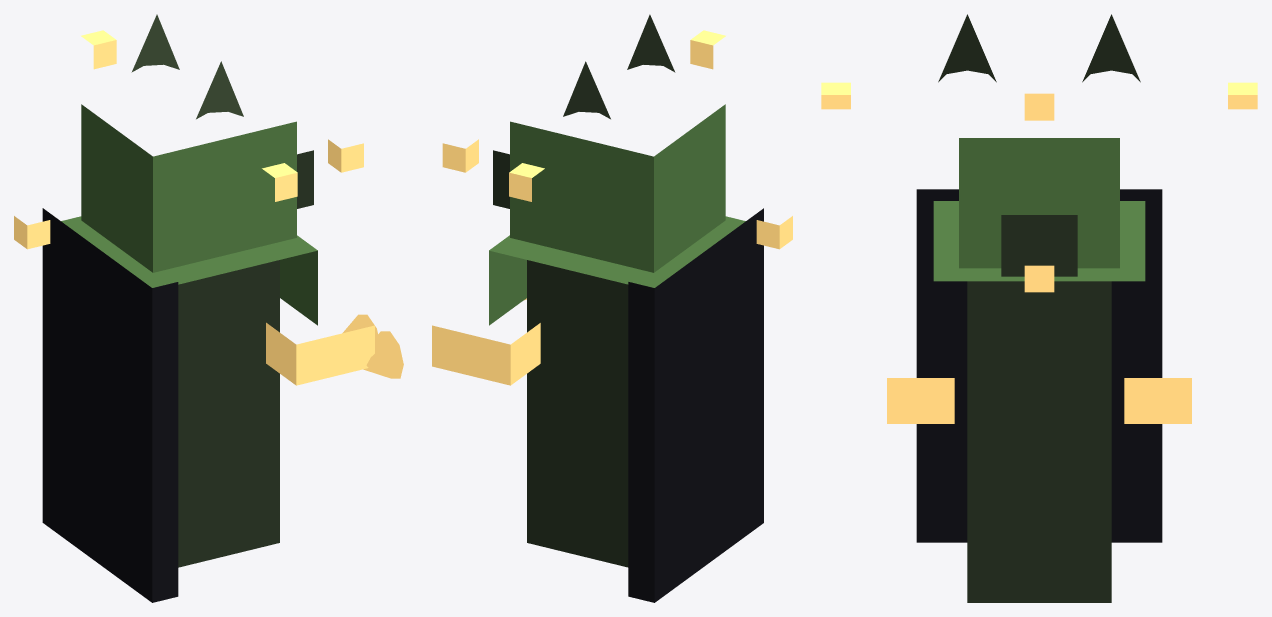
Rendered from lone-druid.glb.
The picture shows the model from 3 angles, left to right: view 1: azimuth 30°, elevation 25°; view 2: azimuth 150°, elevation 25°; view 3: azimuth 270°, elevation 25°; orthographic projection. The views are drawn at different scales.
Parts seen in each view (by area): view 1: lone-druid-replacement-cloak-back, lone-druid-replacement-robed-body, lone-druid-fur-hood, lone-druid-shoulder-fur, lone-druid-bear-paw-l, lone-druid-claw, lone-druid-ear-r, lone-druid-ear-l, lone-druid-snout, lone-druid-flair-mote-2, lone-druid-flair-mote-3, lone-druid-flair-mote-0 (+1 smaller); view 2: lone-druid-replacement-cloak-back, lone-druid-replacement-robed-body, lone-druid-fur-hood, lone-druid-shoulder-fur, lone-druid-bear-paw-r, lone-druid-ear-r, lone-druid-ear-l, lone-druid-snout, lone-druid-flair-mote-0, lone-druid-flair-mote-2, lone-druid-flair-mote-1, lone-druid-flair-mote-3; view 3: lone-druid-replacement-robed-body, lone-druid-replacement-cloak-back, lone-druid-fur-hood, lone-druid-shoulder-fur, lone-druid-snout, lone-druid-bear-paw-l, lone-druid-bear-paw-r, lone-druid-ear-l, lone-druid-ear-r, lone-druid-flair-mote-2, lone-druid-flair-mote-0, lone-druid-flair-mote-1 (+1 smaller).
Part boxes in pixels (box(x1,y1,x2,y2)): lone-druid-replacement-cloak-back: box(42, 208, 178, 602); lone-druid-replacement-robed-body: box(178, 260, 279, 567); lone-druid-fur-hood: box(81, 104, 296, 272); lone-druid-shoulder-fur: box(61, 216, 317, 325); lone-druid-bear-paw-l: box(266, 322, 374, 385); lone-druid-claw: box(363, 331, 403, 378); lone-druid-ear-r: box(131, 14, 179, 72); lone-druid-ear-l: box(196, 61, 243, 119); lone-druid-snout: box(297, 150, 313, 208); lone-druid-flair-mote-2: box(14, 216, 50, 249); lone-druid-flair-mote-3: box(81, 30, 116, 69); lone-druid-flair-mote-0: box(328, 139, 363, 172); lone-druid-replacement-cloak-back: box(628, 208, 763, 602); lone-druid-replacement-robed-body: box(527, 260, 628, 567); lone-druid-fur-hood: box(510, 104, 725, 272); lone-druid-shoulder-fur: box(489, 216, 745, 325); lone-druid-bear-paw-r: box(432, 323, 540, 385); lone-druid-ear-r: box(563, 61, 610, 119); lone-druid-ear-l: box(627, 14, 675, 72); lone-druid-snout: box(493, 150, 509, 208); lone-druid-flair-mote-0: box(442, 139, 478, 172); lone-druid-flair-mote-2: box(756, 216, 792, 249); lone-druid-flair-mote-1: box(690, 30, 725, 69); lone-druid-flair-mote-3: box(509, 163, 544, 201); lone-druid-replacement-robed-body: box(967, 281, 1111, 602); lone-druid-replacement-cloak-back: box(916, 189, 1162, 542); lone-druid-fur-hood: box(959, 138, 1119, 268); lone-druid-shoulder-fur: box(933, 201, 1145, 281); lone-druid-snout: box(1001, 215, 1077, 276); lone-druid-bear-paw-l: box(887, 378, 954, 423); lone-druid-bear-paw-r: box(1124, 378, 1191, 423); lone-druid-ear-l: box(938, 14, 996, 82); lone-druid-ear-r: box(1082, 14, 1140, 82); lone-druid-flair-mote-2: box(1024, 93, 1054, 120); lone-druid-flair-mote-0: box(1024, 265, 1054, 292); lone-druid-flair-mote-1: box(821, 82, 850, 109).
Size of the model in its own units: 1.03 by 1.47 by 1.03.
